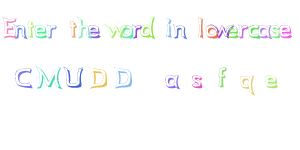C: (9, 62, 34, 91)
D: (85, 62, 111, 92), (112, 62, 135, 92)
E: (1, 11, 19, 43)
M: (34, 62, 64, 93)
U: (61, 62, 85, 90)
a: (159, 65, 184, 95), (257, 22, 273, 41)
c: (248, 22, 261, 42)
d: (138, 13, 157, 39), (269, 22, 282, 41)
e: (260, 68, 284, 93), (277, 21, 296, 40), (87, 19, 102, 42), (225, 21, 240, 42), (33, 21, 48, 40)
f: (209, 61, 234, 92)
h: (76, 12, 91, 41)
i: (161, 15, 174, 41)
l: (195, 13, 206, 41)
n: (12, 21, 28, 42), (172, 20, 187, 41)
o: (119, 18, 134, 44), (204, 21, 220, 41)
q: (234, 71, 260, 99)
r: (44, 19, 58, 42), (130, 19, 144, 41), (236, 20, 249, 42)
s: (187, 70, 208, 95)
t: (66, 18, 78, 42), (26, 18, 36, 41)
w: (103, 19, 126, 40), (213, 21, 231, 42)
